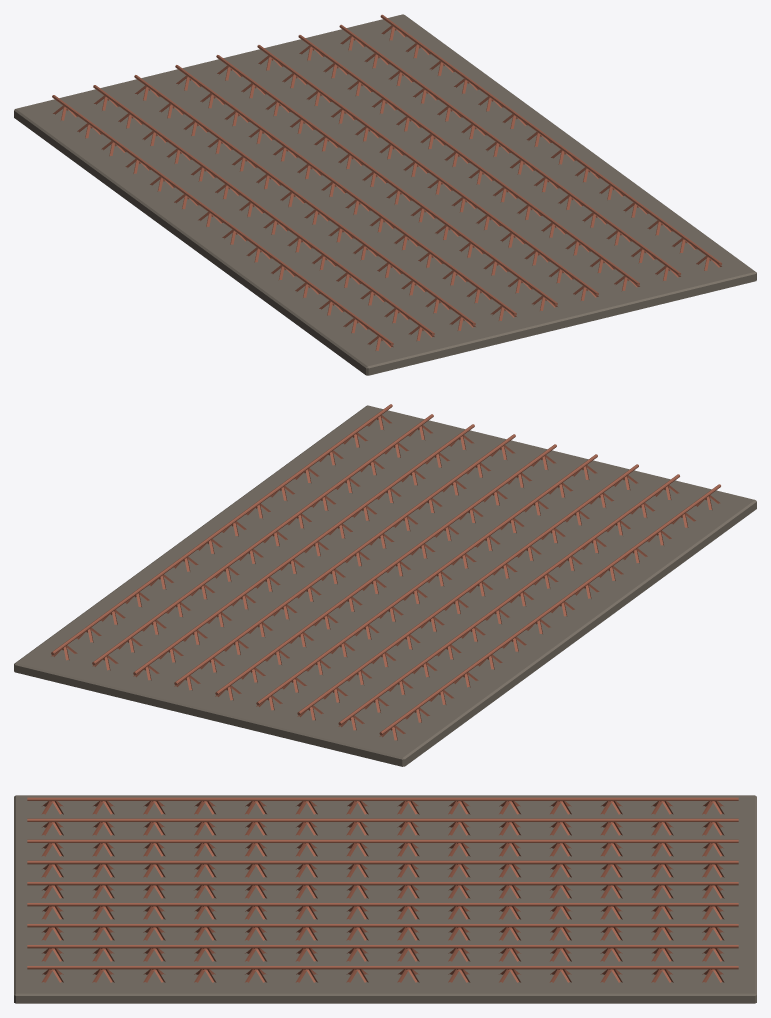
3 renders of one model, top to bottom at view 1: azimuth 30°, elevation 25°; view 2: azimuth 150°, elevation 25°; view 3: azimuth 270°, elevation 25°, orthographic. The views are drawn at different scales.
Parts seen in each view (by area): view 1: Decke 8; view 2: Decke 8; view 3: Decke 8.
Part boxes in pixels (<box>): Decke 8: <box>14,14,756,375</box>; Decke 8: <box>14,404,756,766</box>; Decke 8: <box>14,795,756,1003</box>.
Bounding box in the file's own units: 2.86 × 0.1458 × 4.48.
